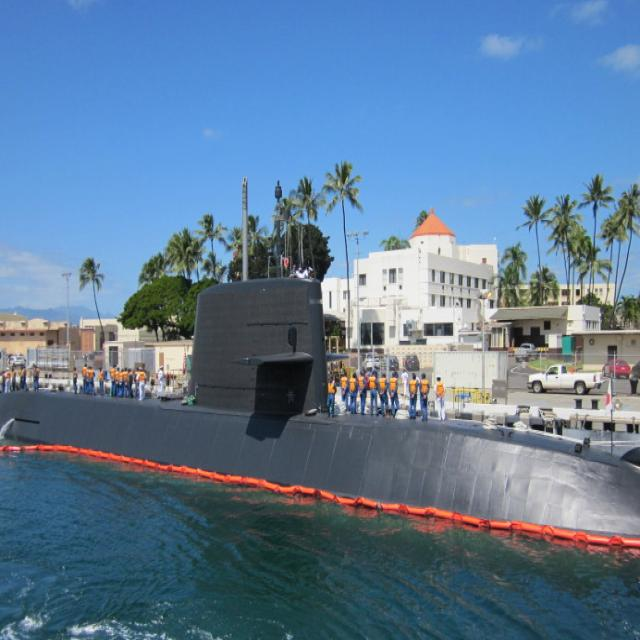submarine: (1, 178, 640, 555)
